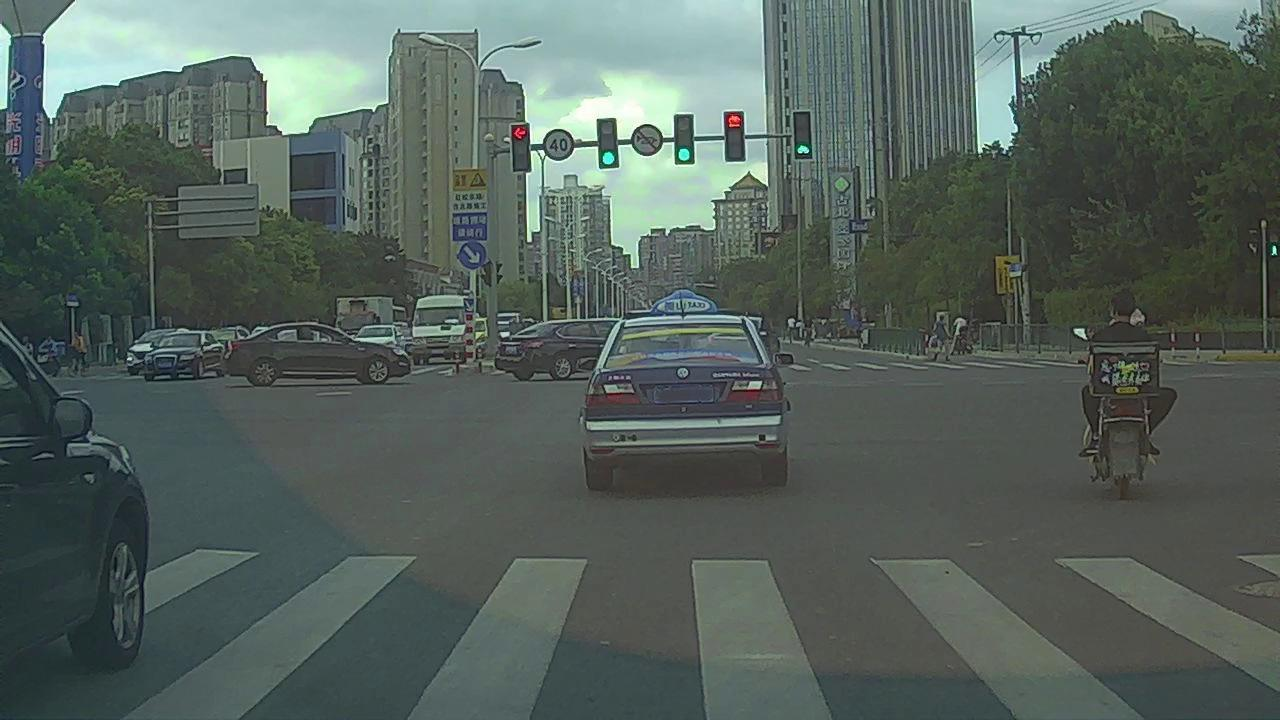traffic_light: (674, 113, 694, 165), (597, 119, 617, 168), (725, 111, 744, 160), (793, 110, 812, 159), (511, 124, 530, 171)
